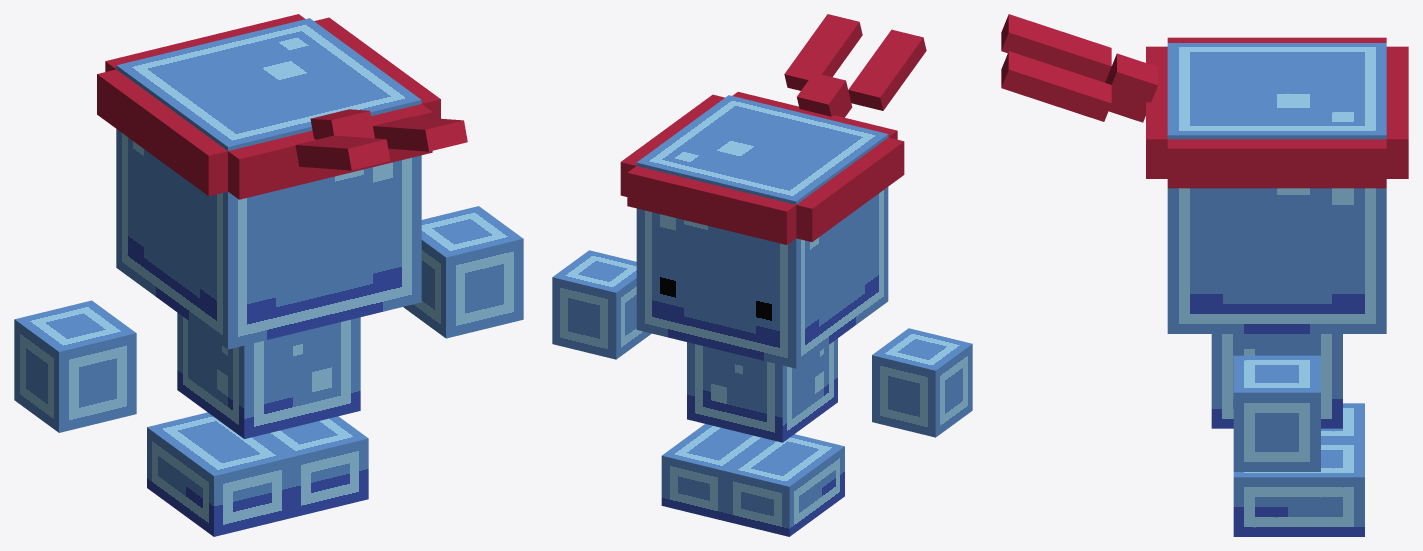
The model's file is SlimePlayer_Blue.gltf.
The picture shows the model from 3 angles, left to right: view 1: azimuth 30°, elevation 25°; view 2: azimuth 150°, elevation 25°; view 3: azimuth 270°, elevation 25°; orthographic projection. The views are drawn at different scales.
Parts seen in each view (by area): view 1: cube (×13); view 2: cube (×13); view 3: cube (×12).
Boxes of the visible parts, x1,y1,x2,y2 form: cube (×13): (14,14,523,536); cube (×13): (552,14,972,536); cube (×12): (1001,14,1408,536).
Size of the model in its own units: 1.5 by 1.44 by 1.16.
1 material, 1 textured.
